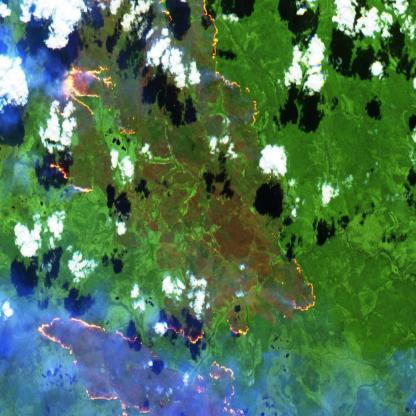fire: (32, 252, 320, 416), (41, 59, 137, 206), (199, 0, 262, 131), (301, 250, 302, 250)
